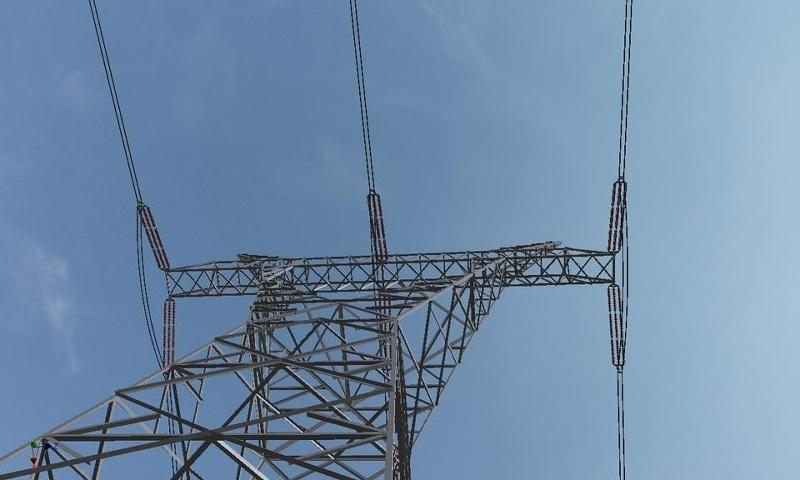power_tower: (38, 199, 615, 467)
